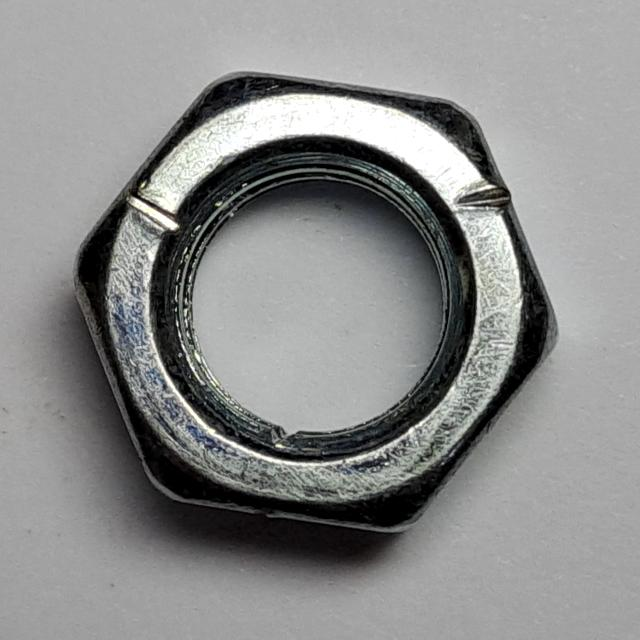Scratches: (60, 61, 574, 553)
